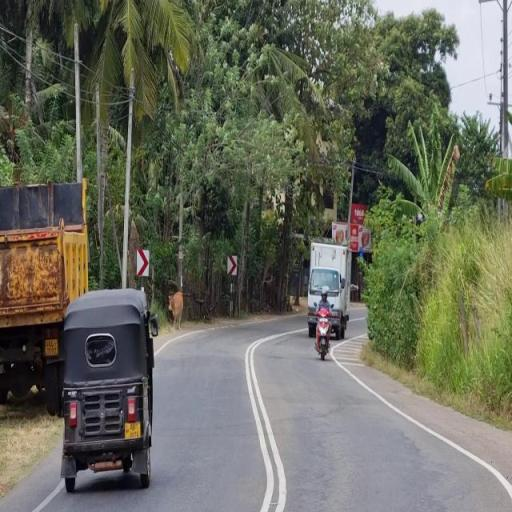double_white_line: (245, 328, 291, 510), (31, 480, 60, 511)
